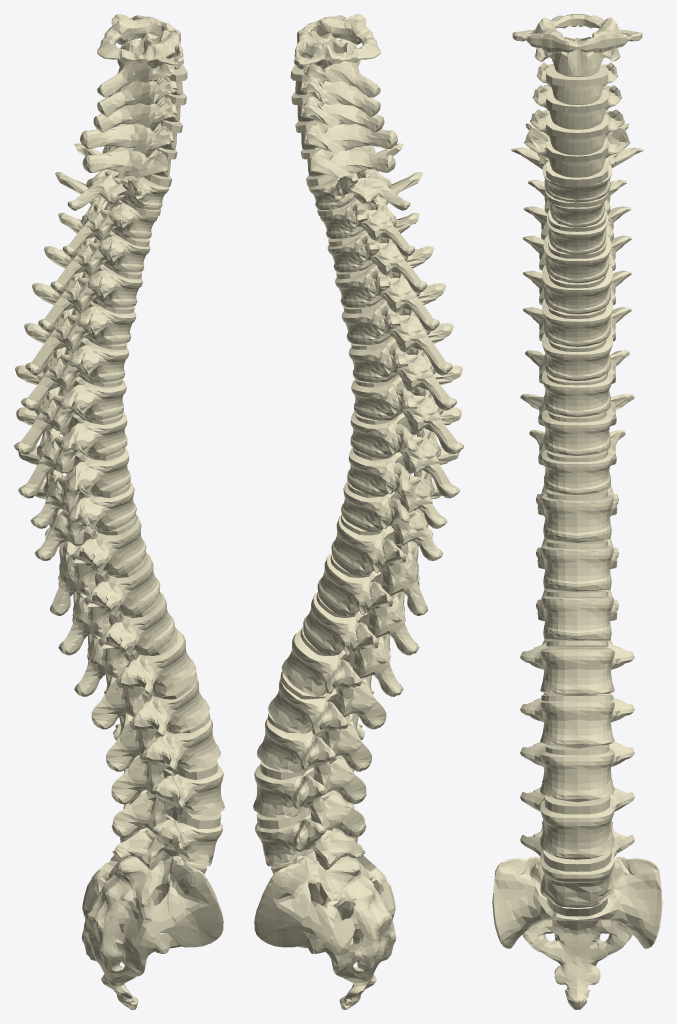
File: spine.glb
3 views of the same model, side by side, from view 1: azimuth 30°, elevation 25°; view 2: azimuth 150°, elevation 25°; view 3: azimuth 270°, elevation 25° (orthographic).
Parts seen in each view (by area): view 1: 3DSMeshMatrix (×28); view 2: 3DSMeshMatrix (×28); view 3: 3DSMeshMatrix (×28).
Boxes of the visible parts, left/top/right/bottom form: 3DSMeshMatrix (×28): left=14, top=14, right=224, bottom=1009; 3DSMeshMatrix (×28): left=253, top=14, right=463, bottom=1009; 3DSMeshMatrix (×28): left=492, top=14, right=662, bottom=1009.
Size of the model in its own units: 5.73 by 26.67 by 4.14.
Materials: 1 (1 with a texture image).
